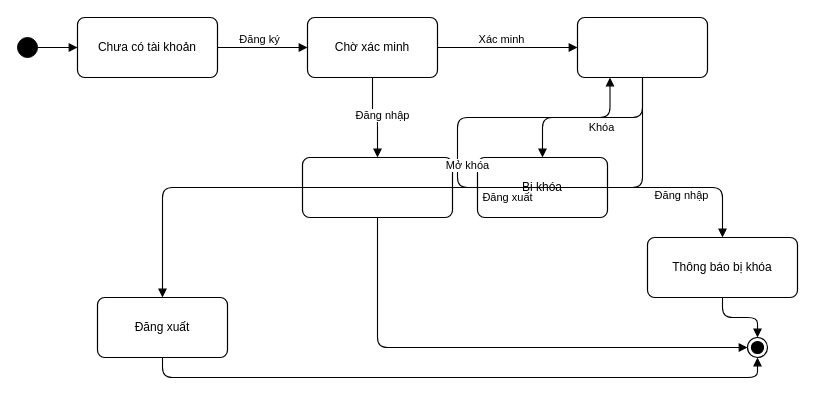
Some shapes in this 816 by 404 pixel diagram are drawn without their labels. The shapes that lost their labels are listed below. From the top down, each one's centre as x and y in pixels, then its label:
(x=642, y=47): Hoạt động
(x=377, y=187): Thông báo chưa xác minh
